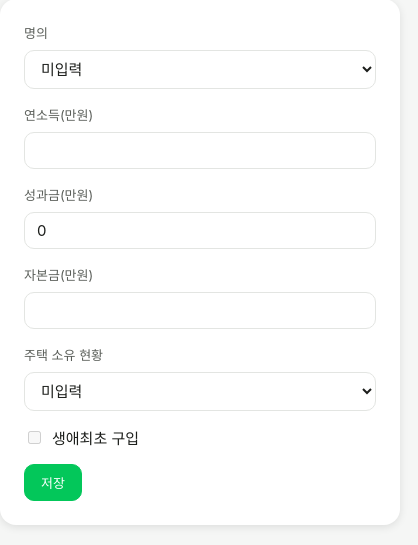
it: UserProfileForm › 저장 성공 시 저장되었습니다 문구가 표시된다
The image size is (418, 545).
expect the number field labelled "연소득(만원)" is shown: met, box [24,132,376,169]
Click the button "저장": (53, 482) [24,464,82,501]
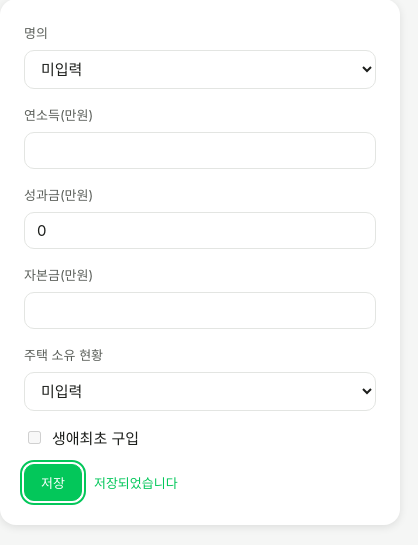
expect the text "저장되었습니다" is shown: met, box [94,473,178,492]
